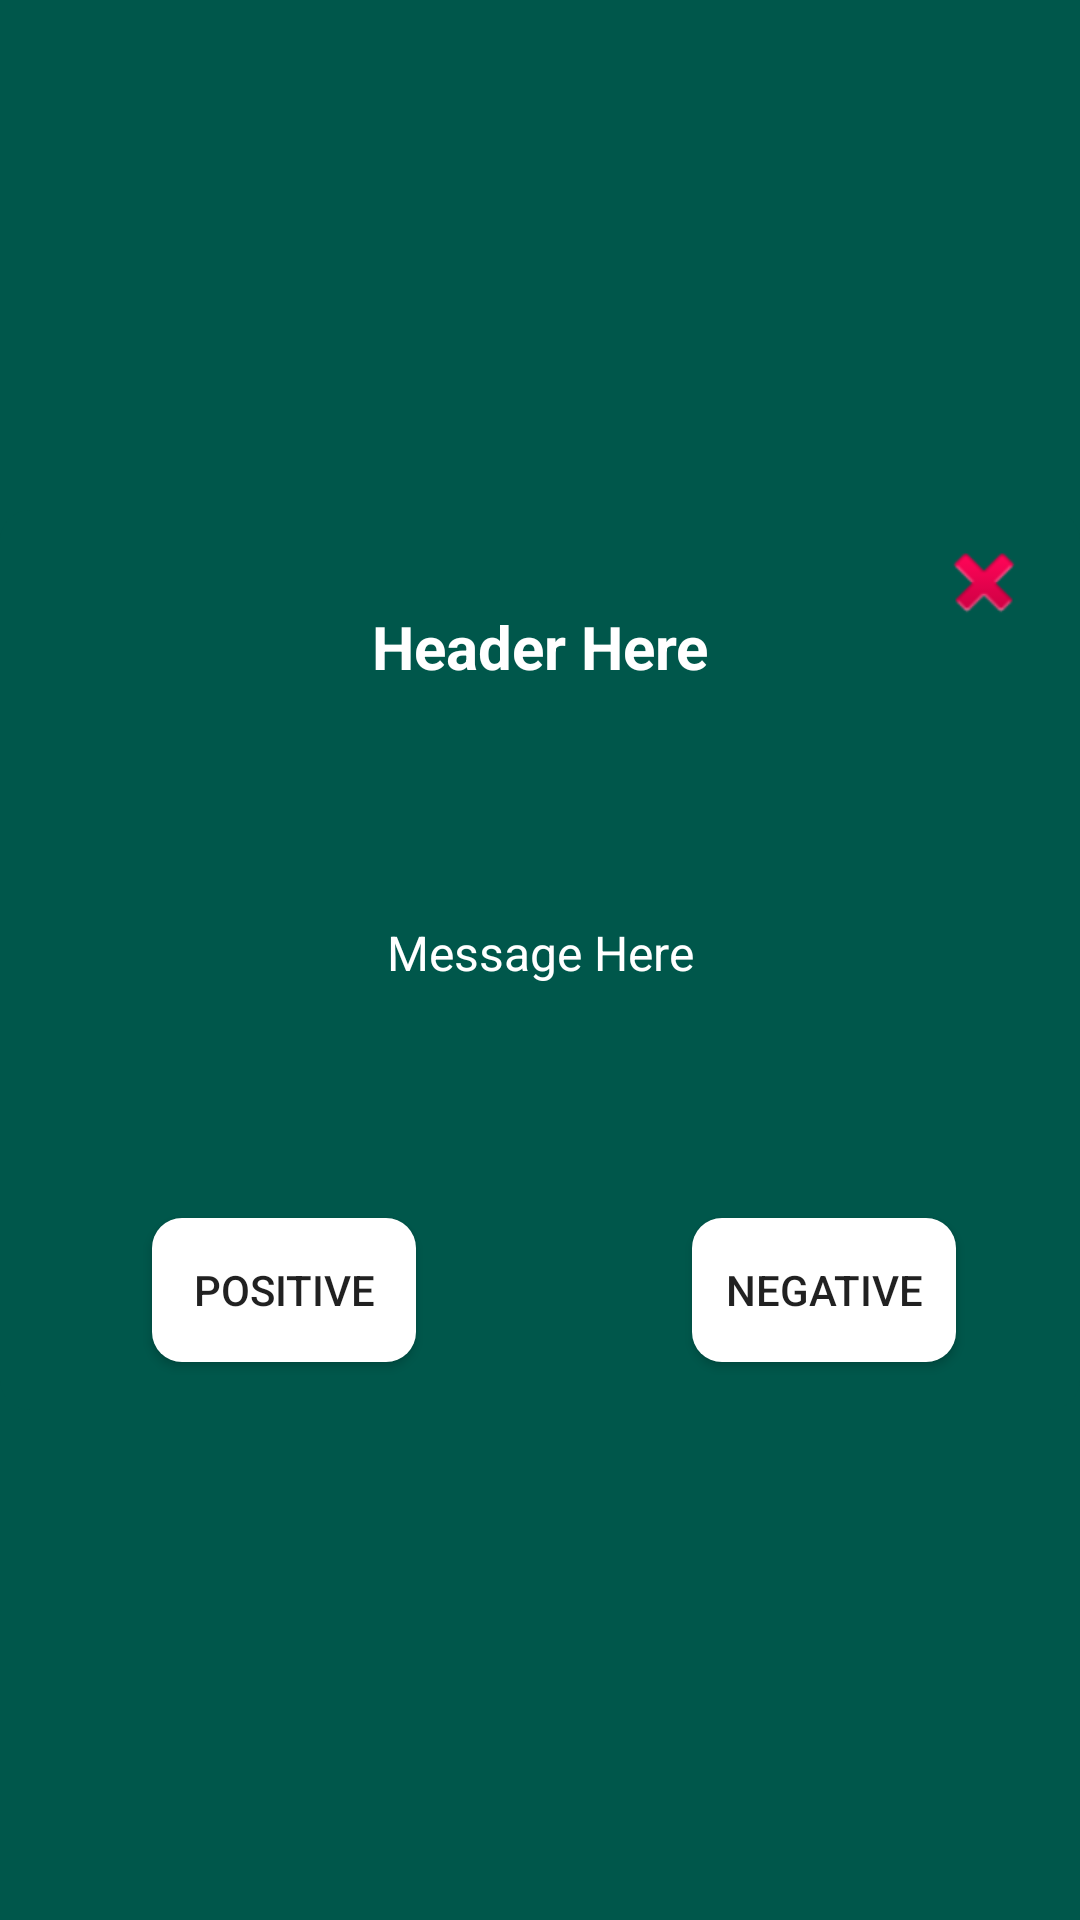

Named icons in this screenshot (1080px x 1920px) and their bounding boxes, [x1,y1,x2,y2]:
delete: [953,553,1015,612]
